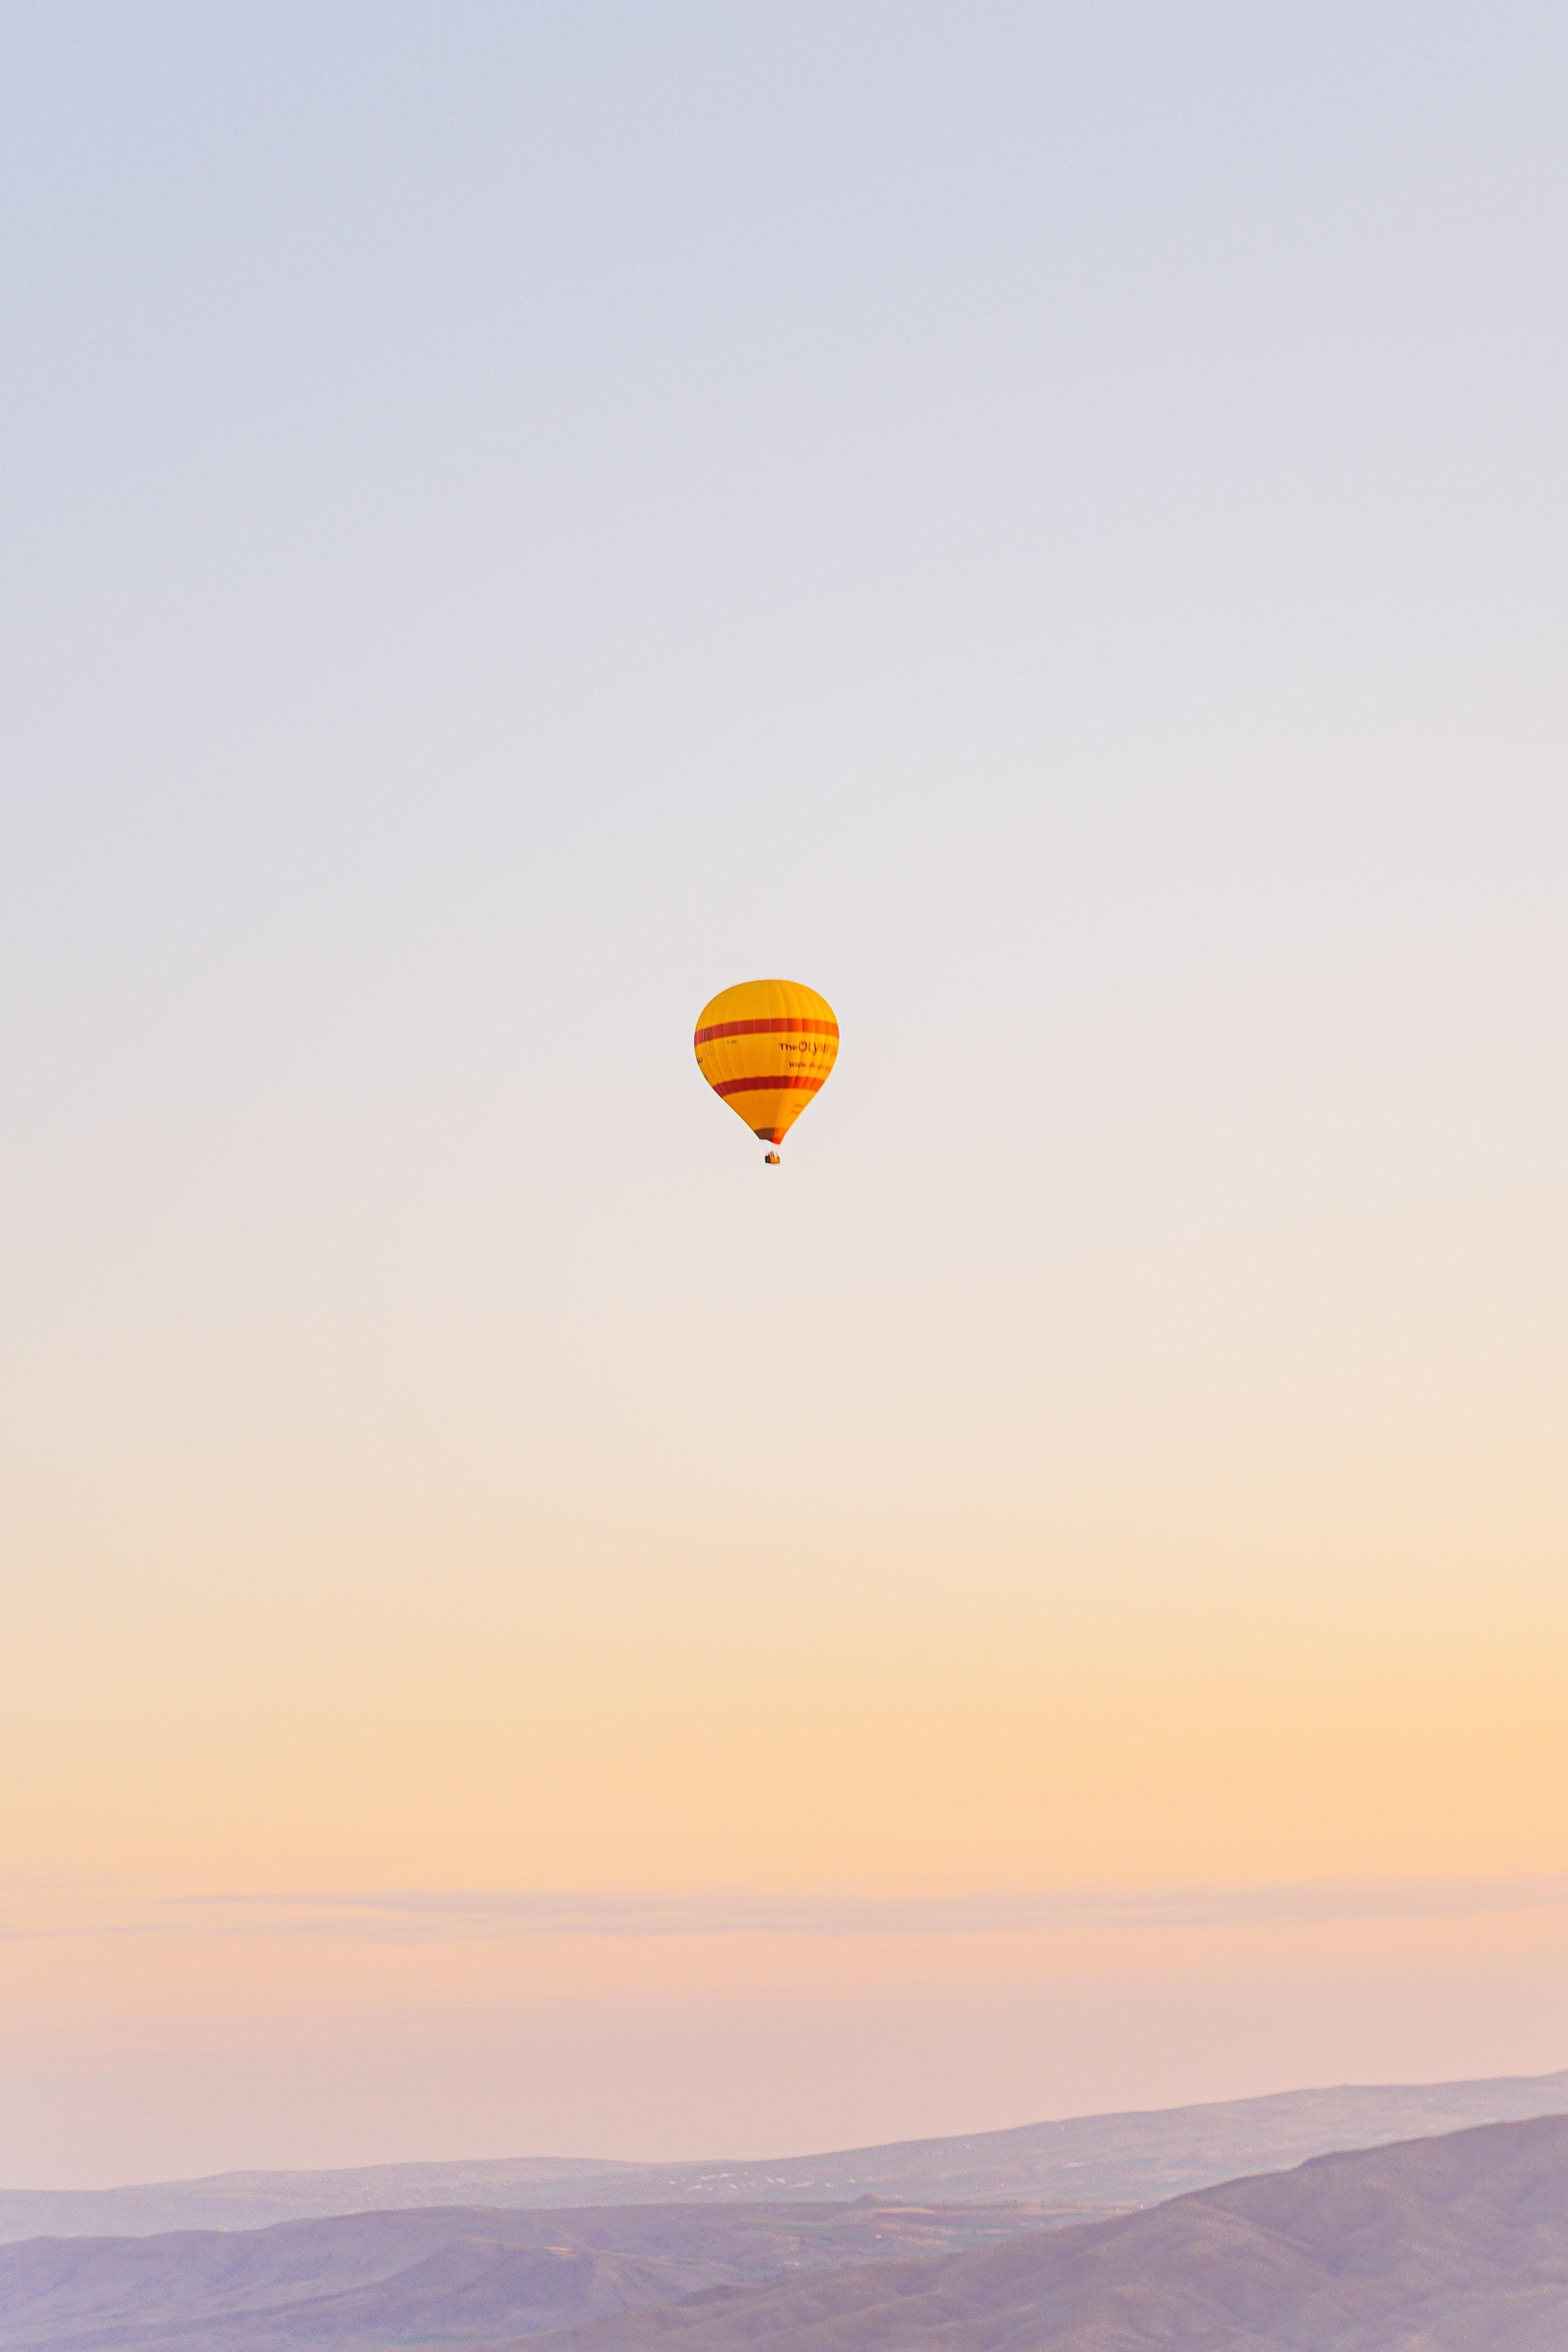hot air ballon: (691, 980, 842, 1164)
